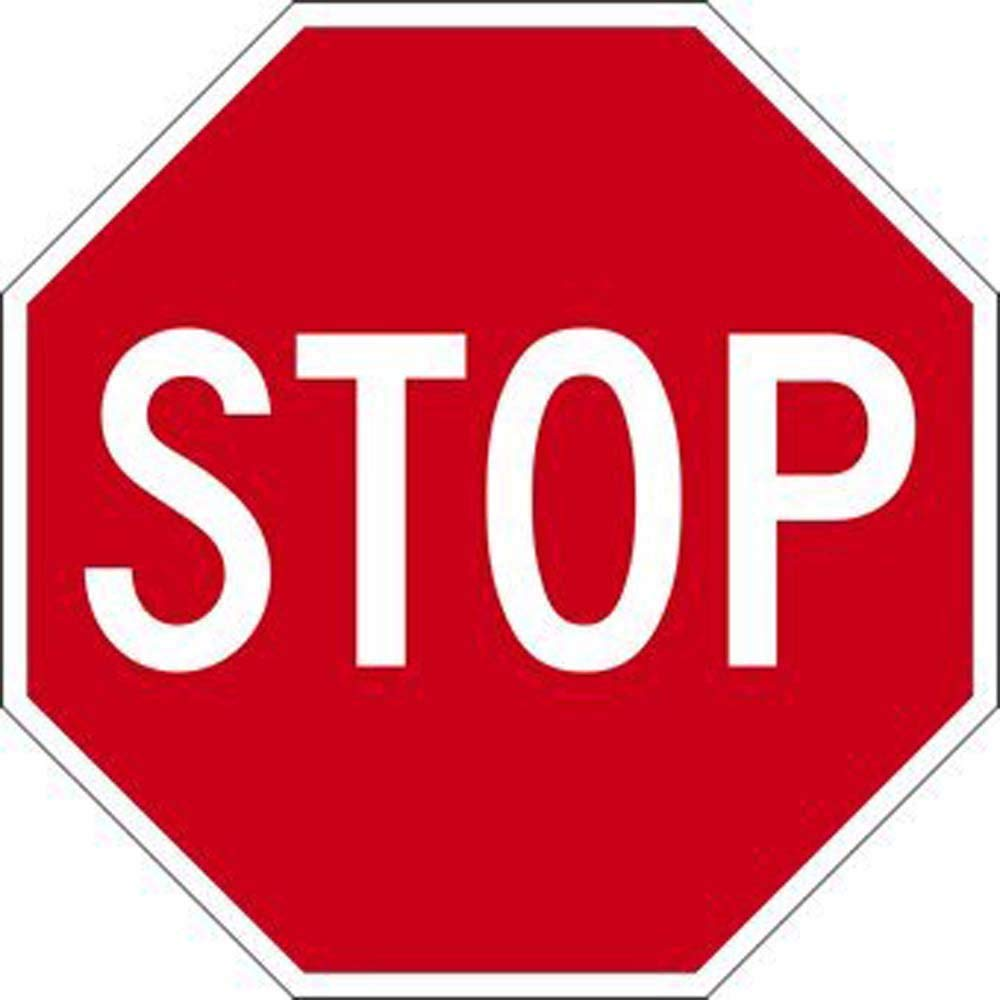stopsign: (3, 1, 1000, 996)
